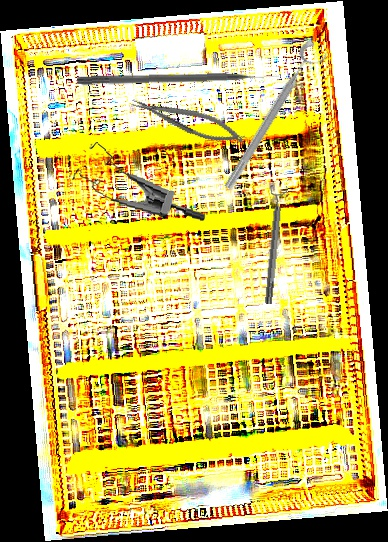Fixation Ring: (219, 38, 331, 198), (257, 184, 290, 305)
Needle Holder: (128, 87, 248, 153)
Pusher: (76, 72, 280, 87)
Speculum: (68, 139, 214, 223)
